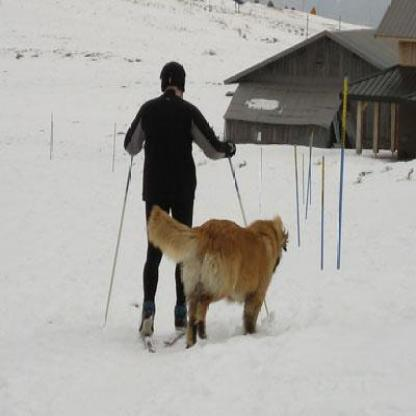Leonberg: (144, 201, 288, 345)
